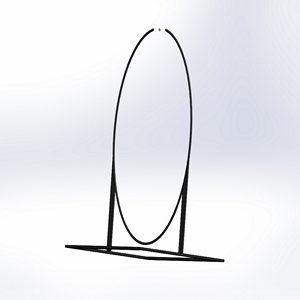circle: (63, 26, 225, 263)
